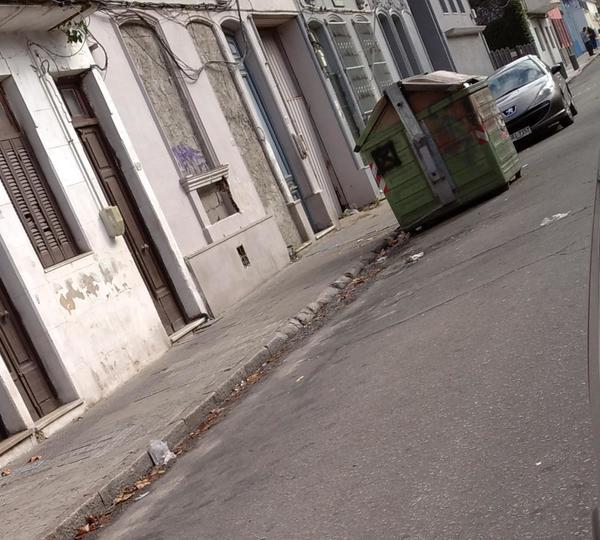Dechets: (146, 439, 175, 465), (539, 208, 569, 229), (405, 250, 423, 264)
Trash: (354, 71, 521, 232)
